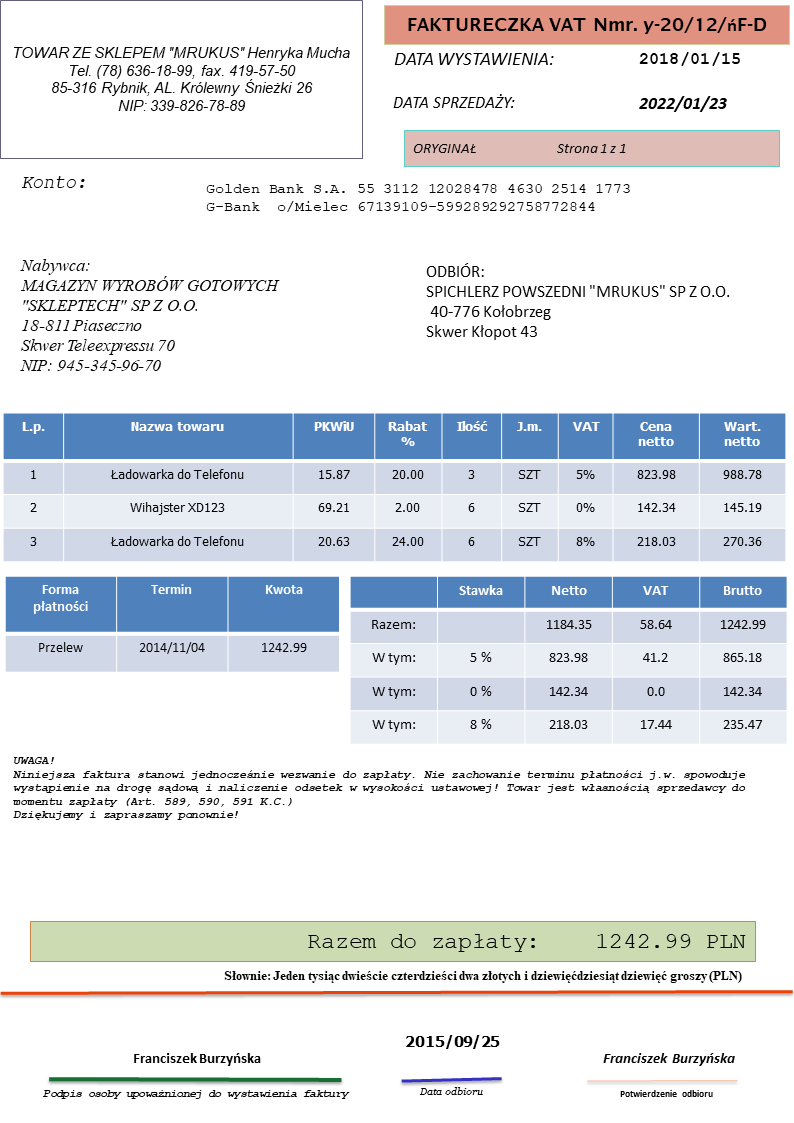Table: (2, 412, 786, 563), (349, 575, 789, 745), (4, 574, 339, 674)
TextBox: (10, 753, 748, 822), (18, 257, 281, 374), (10, 41, 353, 115), (424, 260, 730, 341), (205, 180, 633, 216), (305, 929, 746, 955), (223, 967, 743, 984), (403, 12, 767, 36), (41, 1086, 350, 1102), (410, 139, 628, 158), (392, 48, 556, 68), (390, 92, 517, 111), (600, 1051, 736, 1068), (130, 1050, 262, 1067), (637, 50, 741, 69), (403, 1032, 501, 1050), (636, 95, 731, 112), (19, 172, 86, 192), (617, 1087, 715, 1100), (417, 1084, 485, 1099)
